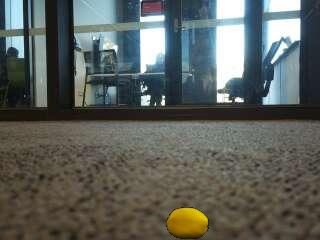lemon: (168, 209, 208, 240)
